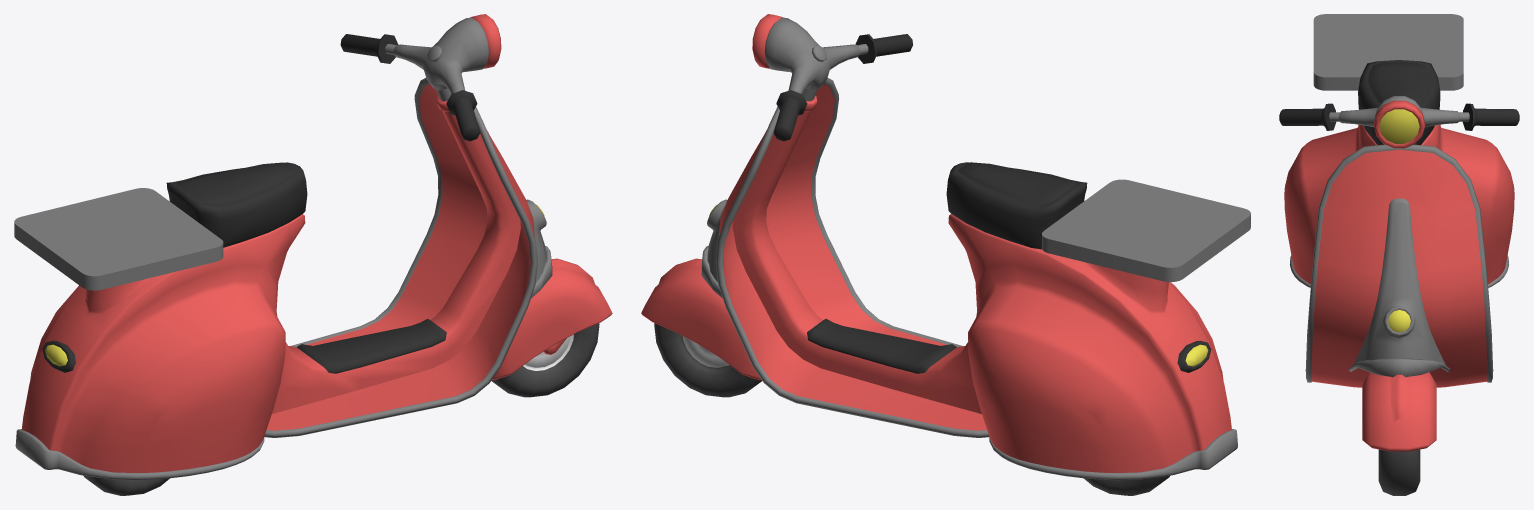
File: motor.fbx
3 renders of one model, left to right at view 1: azimuth 30°, elevation 25°; view 2: azimuth 150°, elevation 25°; view 3: azimuth 270°, elevation 25°, orthographic. The views are drawn at different scales.
Parts seen in each view (by area): view 1: govde, sepet, direksiyon, camurluk, teker, teker2.003; view 2: govde, sepet, direksiyon, camurluk, teker, teker2.003; view 3: govde, sepet, camurluk, direksiyon, teker.
Boxes of the visible parts, x1,y1,x2,y2 form: govde: (15,78,552,480); sepet: (14,188,223,290); direksiyon: (340,14,501,141); camurluk: (492,258,612,380); teker: (491,323,599,397); teker2.003: (83,475,169,495); govde: (701,78,1237,480); sepet: (1042,179,1250,282); direksiyon: (752,14,912,141); camurluk: (641,258,761,380); teker: (654,323,762,397); teker2.003: (1084,475,1169,495); govde: (1284,60,1514,387); sepet: (1313,14,1463,90); camurluk: (1362,372,1436,451); direksiyon: (1279,96,1519,148); teker: (1378,449,1420,495).
Size of the model in its own units: 910 by 590 by 354.
